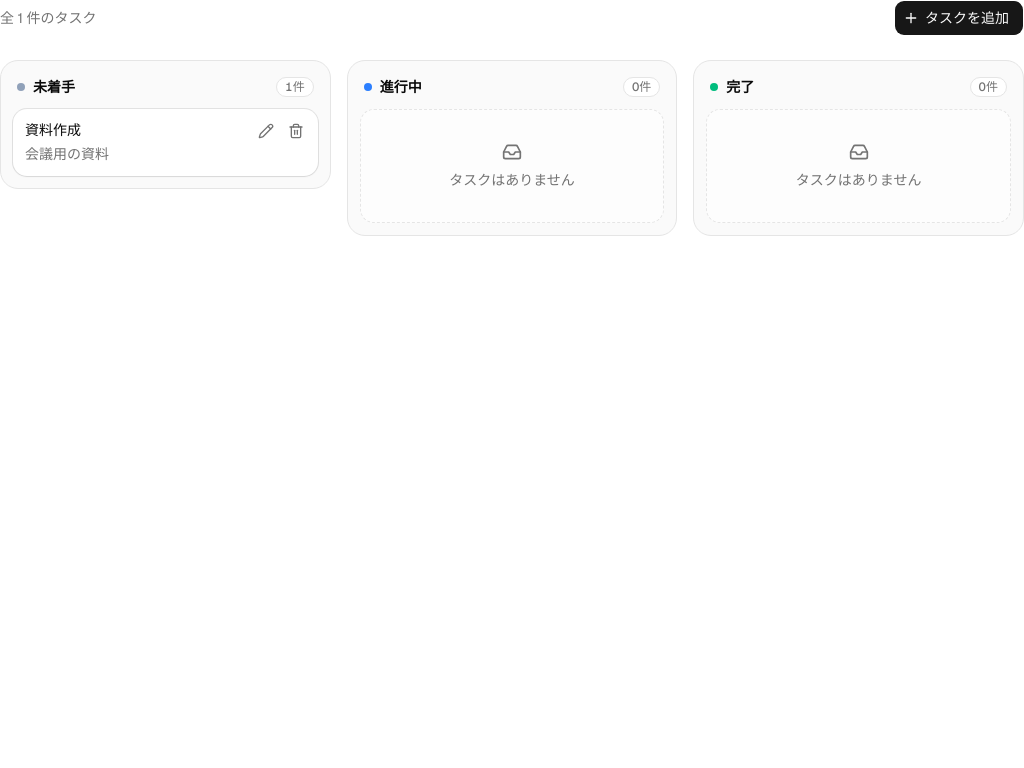
KanbanBoard › 削除 › 最後の1件を削除すると、空であることを表示する
Click the button named "「資料作成」を削除" at (296, 131), box [282,117,310,145]
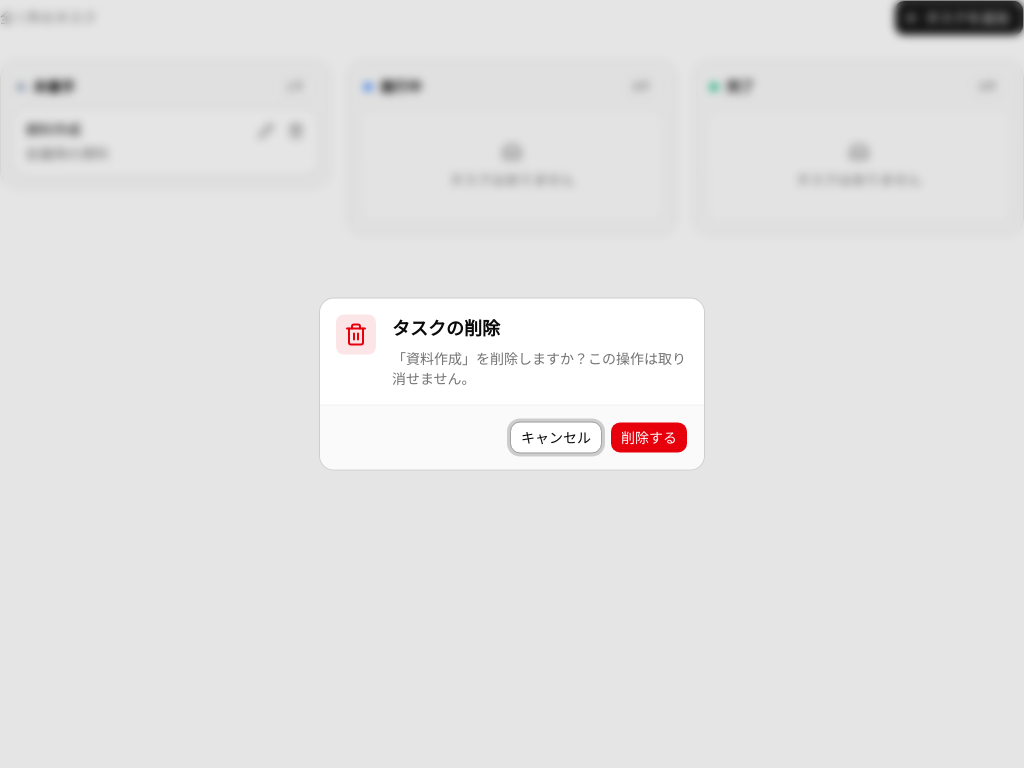
Click the button "削除する" at (649, 438), box [610,422,688,454]
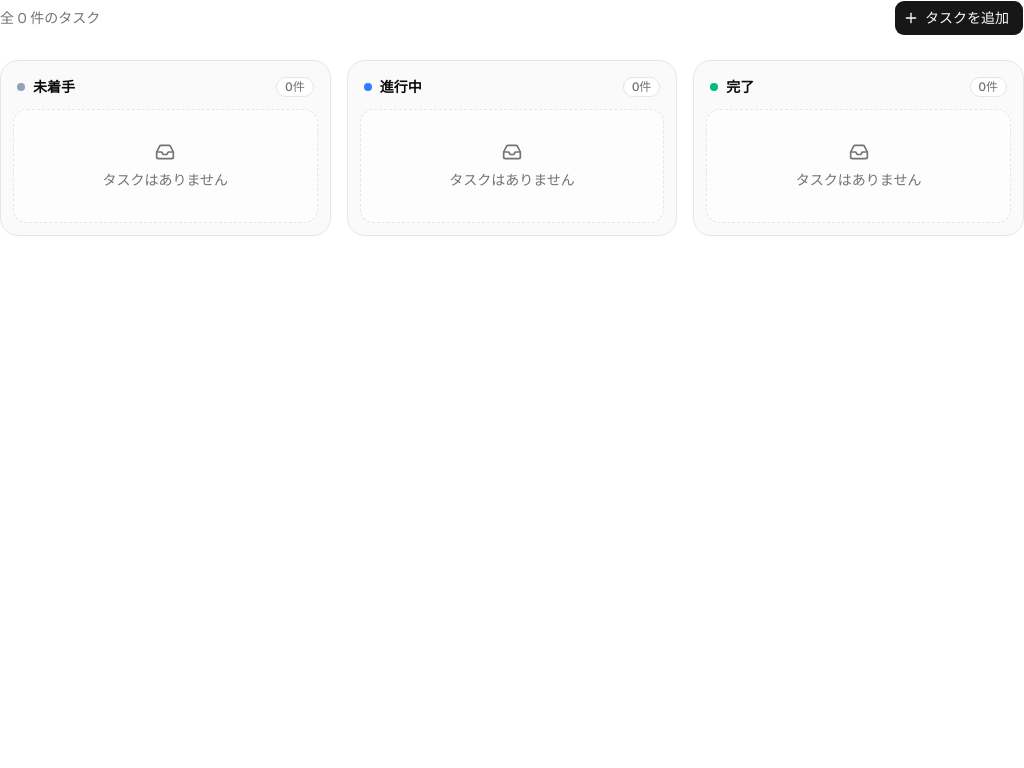
Expected: the text "タスクはありません" below "未着手" is shown, [102,171,228,189]
